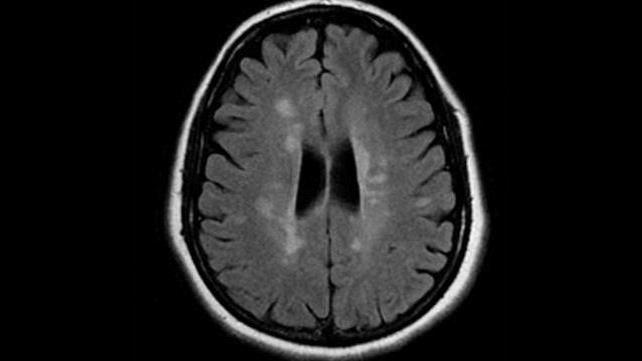Normal_Brain: (94, 7, 589, 361)
